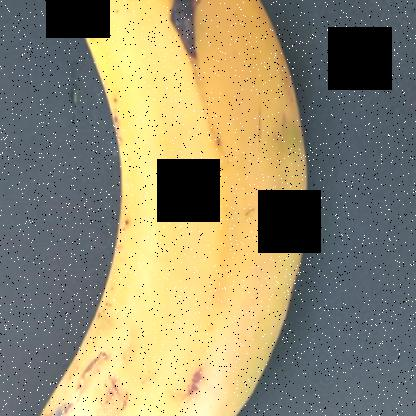ripe: (0, 1, 328, 415)
